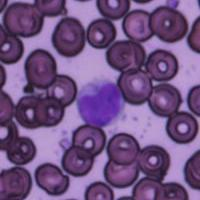M: (76, 77, 125, 127)
